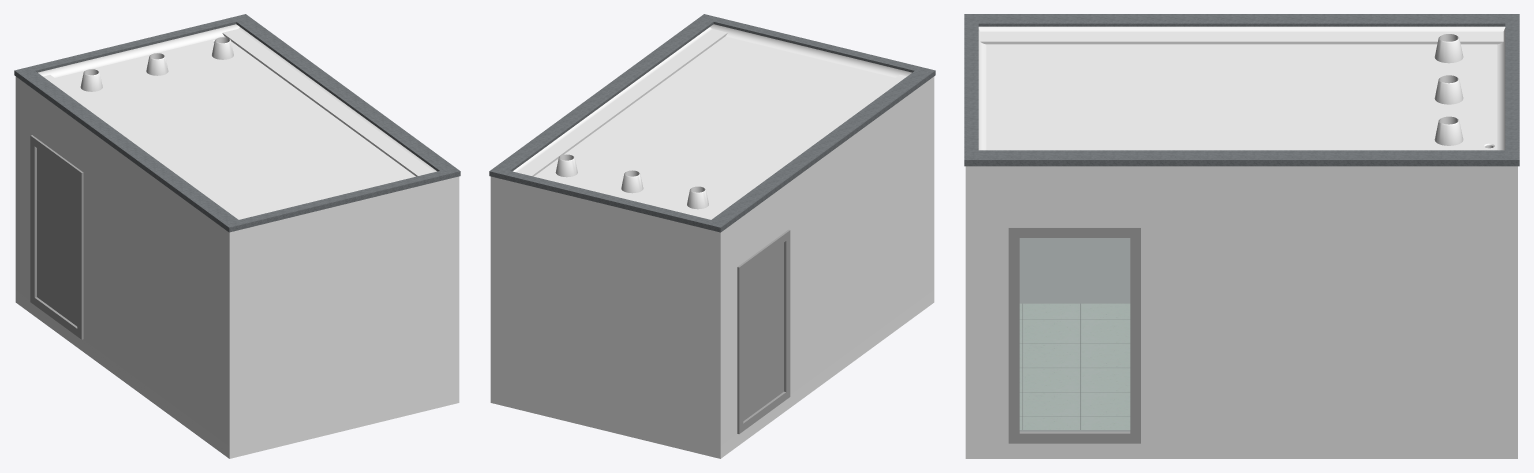
File: Cashbox080523.glb
The picture shows the model from 3 angles, left to right: view 1: azimuth 30°, elevation 25°; view 2: azimuth 150°, elevation 25°; view 3: azimuth 270°, elevation 25°; orthographic projection. The views are drawn at different scales.
Parts seen in each view (by area): view 1: Root Node, 73084, 58702; view 2: Root Node, 73084, 58702; view 3: Root Node, 58577, 73084.
Boxes of the visible parts, x1,y1,x2,y2 form: Root Node: (15, 24, 459, 458); 73084: (14, 14, 460, 232); 58702: (30, 135, 83, 339); Root Node: (490, 24, 934, 458); 73084: (489, 14, 935, 232); 58702: (737, 229, 790, 433); Root Node: (965, 26, 1517, 458); 58577: (1008, 227, 1140, 443); 73084: (964, 14, 1519, 166).
Size of the model in its own units: 3.03 by 2.94 by 4.82.
Materials: 1023 (21 with a texture image).
